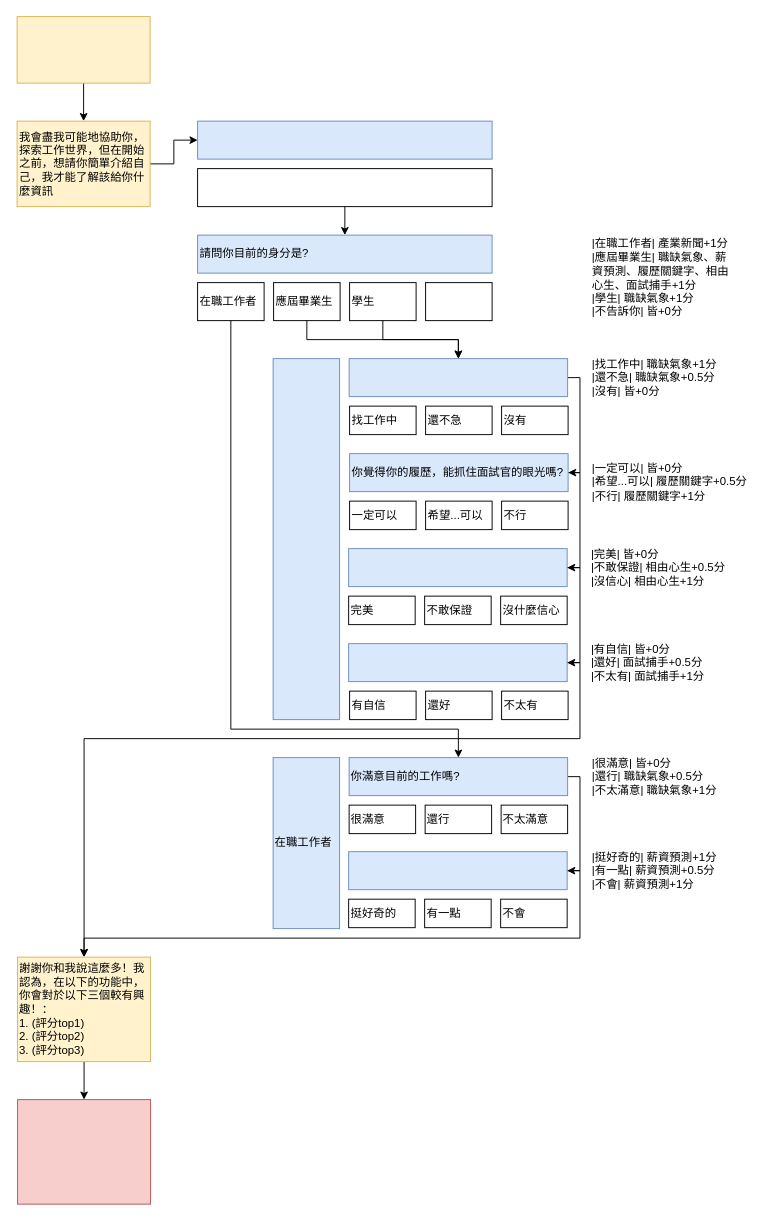
The diagram is 768 pixels wide and 1221 high, and some of its shapes have lost their labels. Each missing label, with the centre of its shape:
(圖形選單，Part*6) 1. 職缺氣象 2. 產業趨勢(新聞) 3. 相由心生 4. 履歷關鍵字 5. 面試捕手 6. 個人紀錄: pixel 84 1151
(輸入稱呼): pixel 344 187
不告訴你: pixel 458 301
你正在找工作了嗎?: pixel 458 377
哈囉！很感謝你加我為朋友，我對你很有興趣，希望你對我也是:): pixel 83 49
在履歷上的照片，你覺得自己選的不錯?: pixel 457 567
對於與人交談這件事，你是否充滿自信?: pixel 457 662
應屆畢業生／學生: pixel 306 539
我該如何稱呼你?: pixel 344 139
是否好奇目前各種職缺的薪資水平?: pixel 457 870
